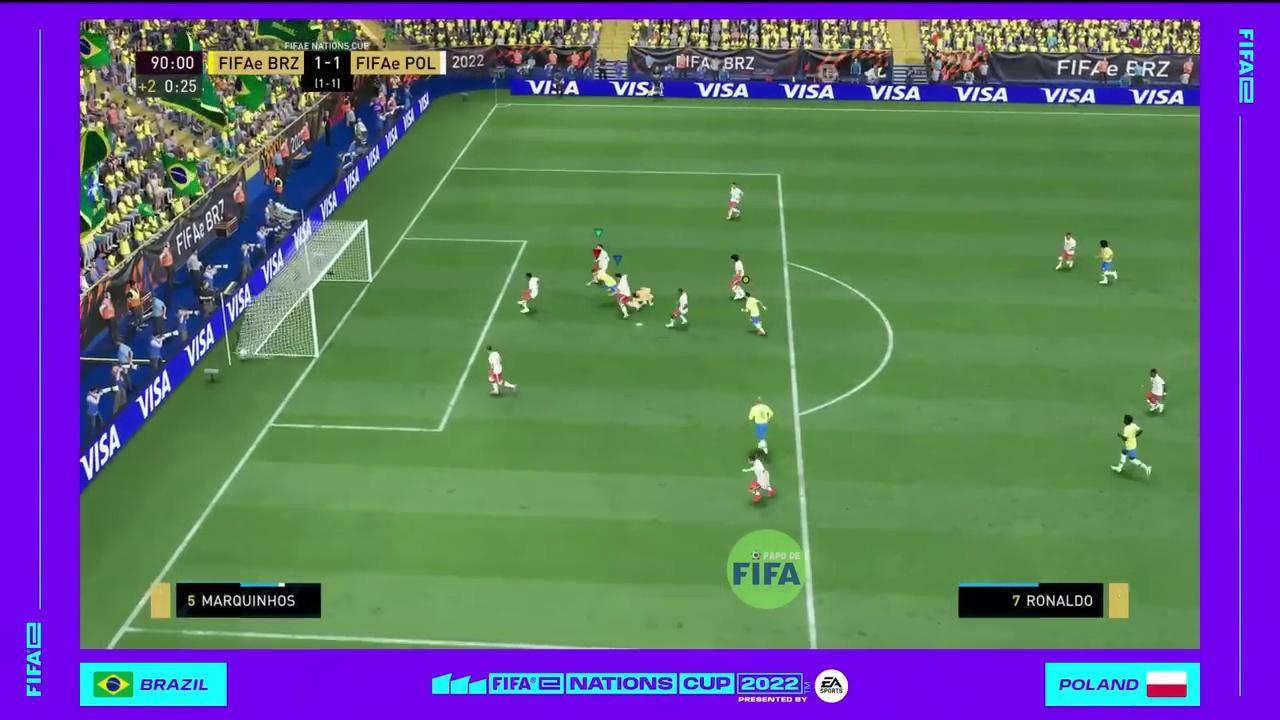scoreboard: (212, 48, 449, 78)
timestamp: (136, 51, 205, 99)
